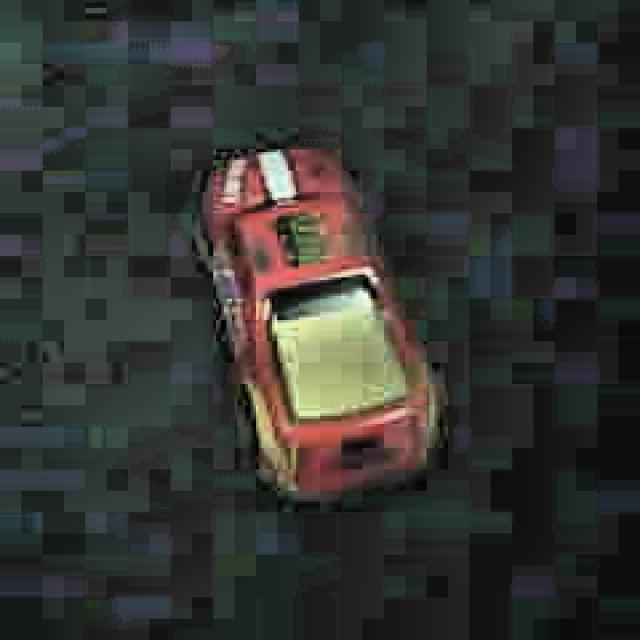car: (188, 138, 448, 502)
